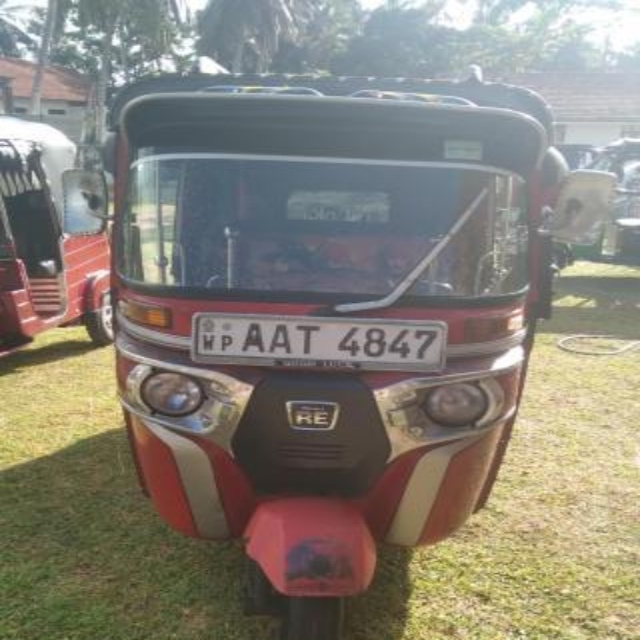Motorcycle: (56, 70, 618, 640), (2, 114, 114, 366)
